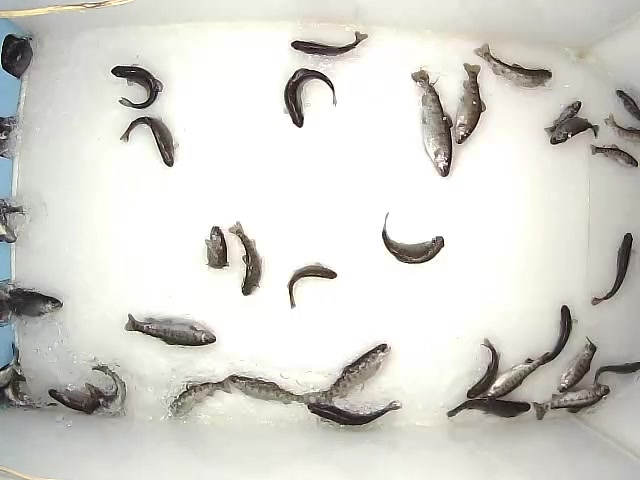fish: (313, 341, 392, 403), (410, 69, 453, 179), (473, 43, 553, 90), (381, 211, 446, 267), (122, 311, 217, 349), (281, 66, 338, 129), (481, 351, 552, 399), (591, 231, 634, 306), (533, 382, 612, 422), (119, 116, 178, 168), (525, 305, 575, 365), (229, 373, 315, 405), (170, 376, 231, 421), (228, 220, 264, 296), (453, 63, 486, 144), (307, 400, 404, 427), (109, 63, 164, 110), (555, 336, 598, 393), (287, 262, 338, 309), (289, 30, 369, 58), (467, 336, 500, 399), (91, 363, 128, 415), (1, 288, 64, 318), (446, 398, 532, 419), (48, 381, 100, 414), (550, 115, 601, 146), (544, 99, 582, 138), (590, 143, 639, 169), (204, 225, 230, 273), (593, 361, 640, 386)
